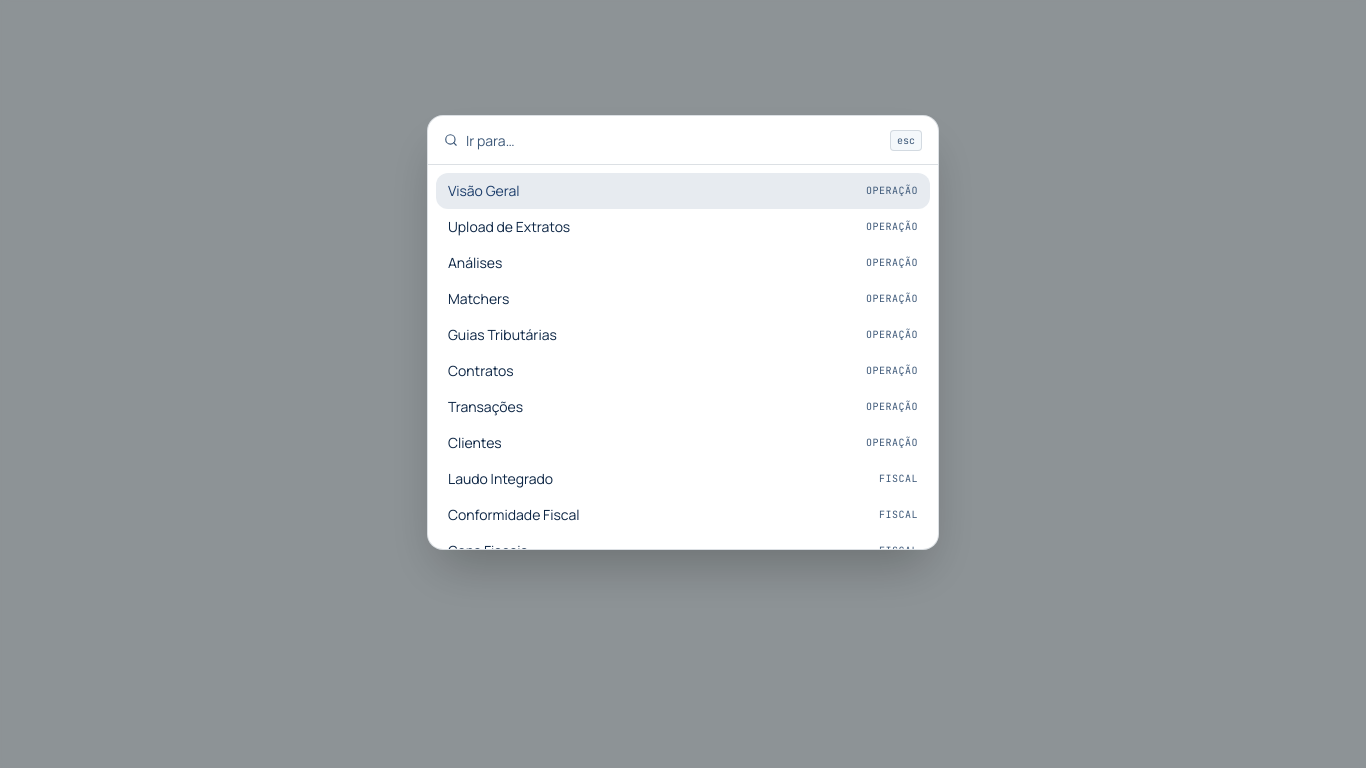
it: CommandPalette › filtra os destinos pelo texto digitado (label e grupo)
Step 1. Type "laudo" into the field named "Buscar telas" → point(674, 140), box [466,116,882,164]
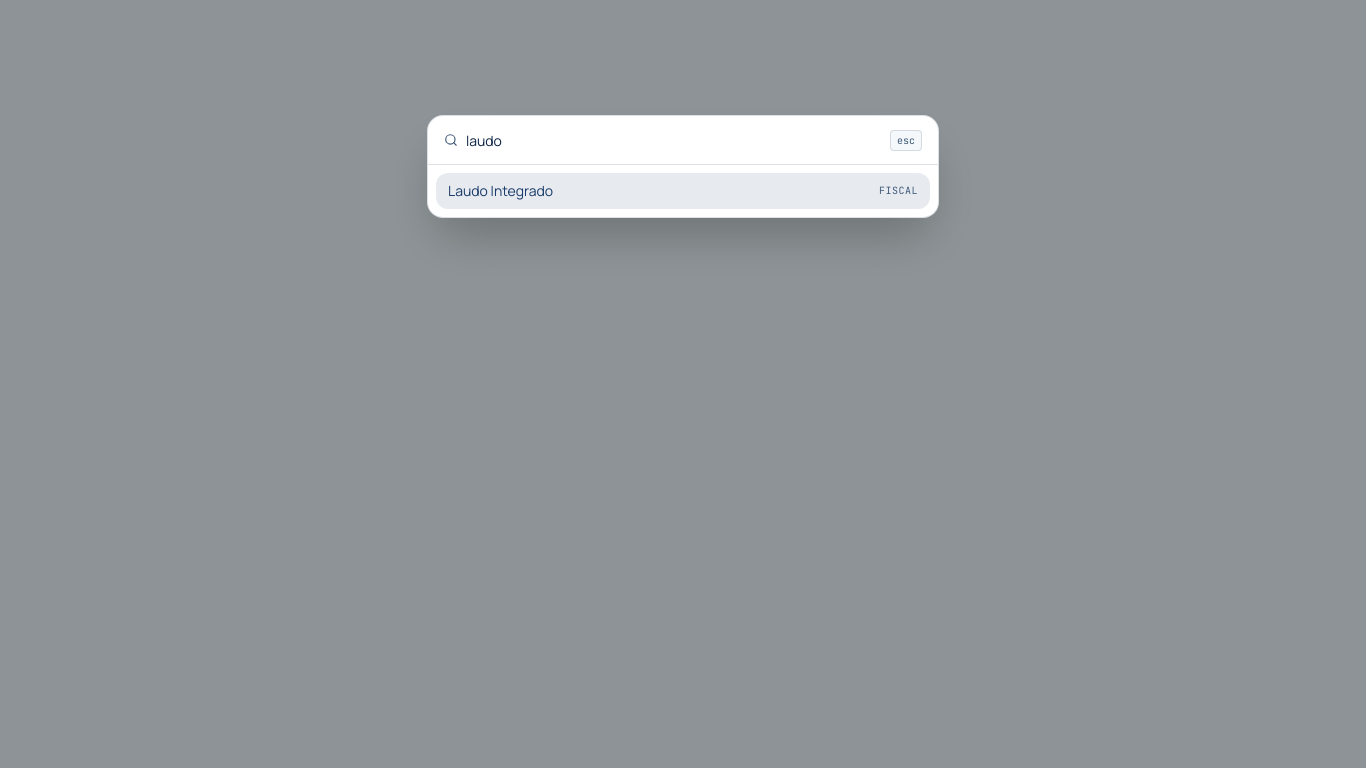
Check: the text "Laudo Integrado" is shown, box [448,181,553,201]
Check: the button "Visão Geral" is gone
